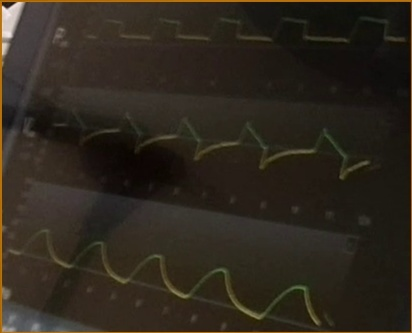Normal Flow: (52, 100, 367, 180)
Normal Volume: (9, 224, 322, 326)
